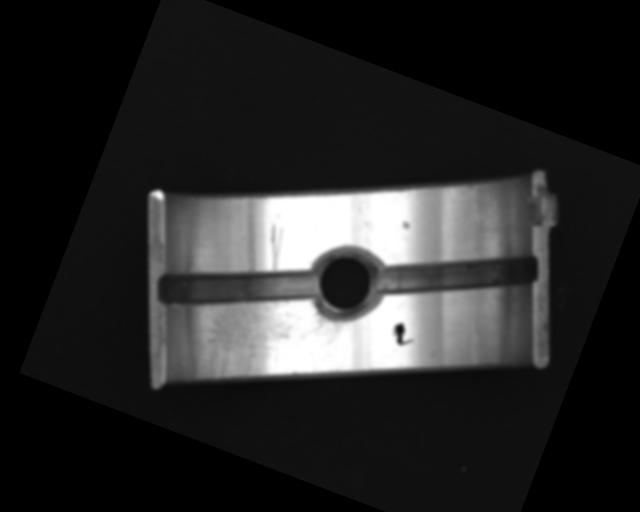blot: (388, 319, 419, 349)
bruise: (399, 219, 412, 231)
gap: (368, 206, 543, 344), (153, 224, 320, 351)
hole: (298, 238, 392, 333)
nick: (255, 221, 292, 273)
scratch: (186, 274, 354, 425)
